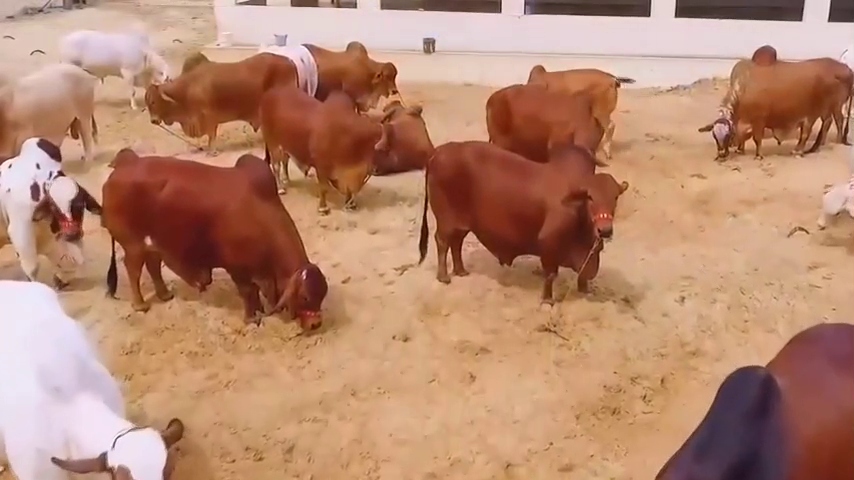bo: (98, 147, 335, 327), (2, 275, 205, 479), (616, 312, 854, 480), (409, 136, 636, 303), (699, 42, 854, 168), (253, 81, 390, 219), (136, 47, 295, 161), (4, 133, 110, 286), (479, 81, 622, 168), (3, 64, 112, 171), (519, 53, 633, 155), (57, 22, 166, 114), (302, 32, 408, 109), (351, 98, 437, 175), (255, 23, 327, 102), (804, 176, 854, 236)
